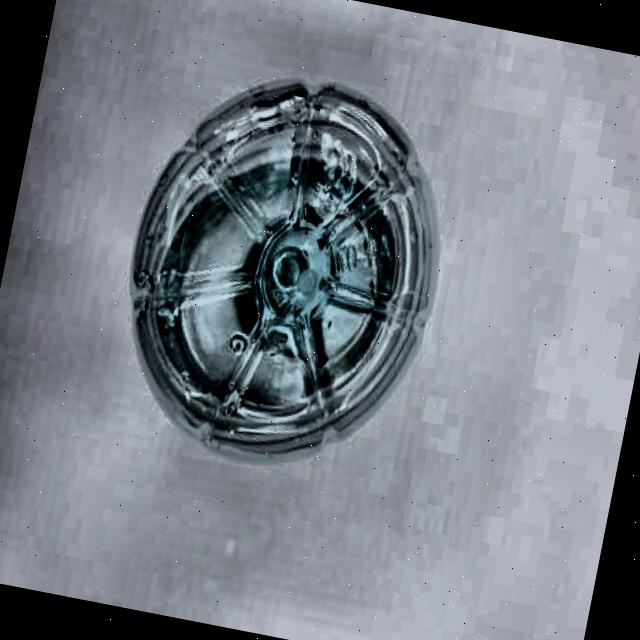plastic: (93, 51, 470, 490)
